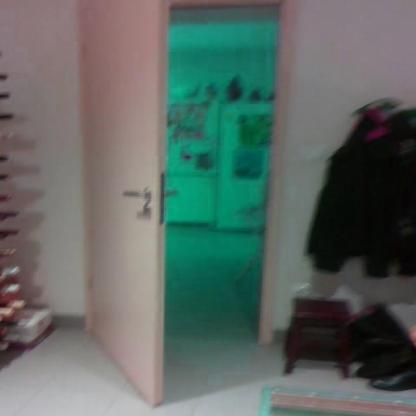door: (66, 0, 304, 410)
